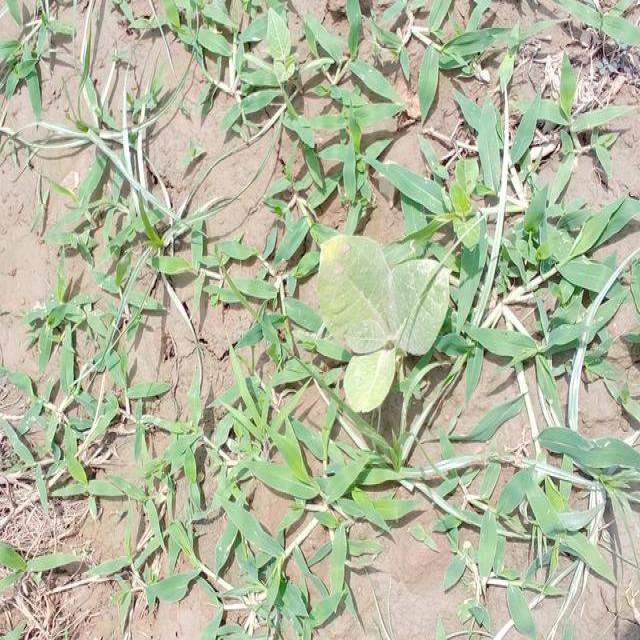crop: (313, 236, 452, 412)
